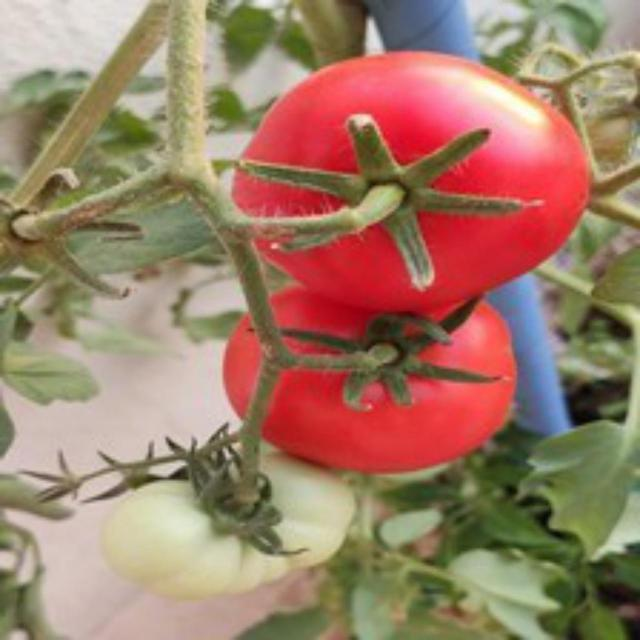tomato: (239, 44, 595, 318)
